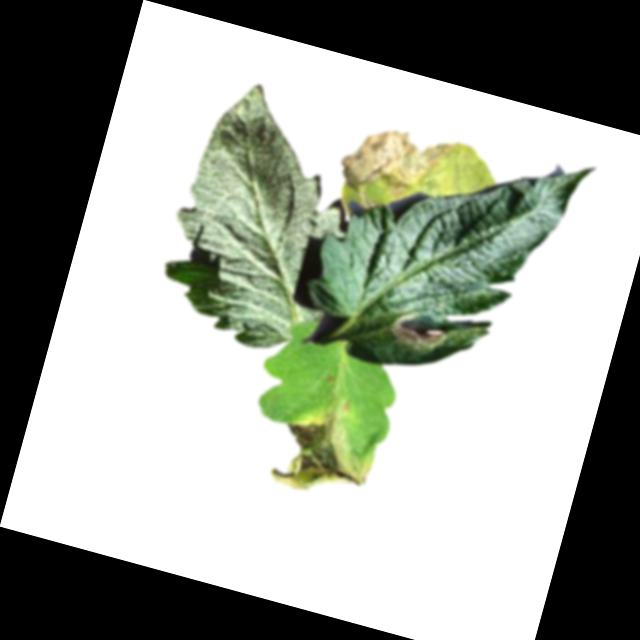Late_blight: (268, 399, 384, 508), (334, 112, 455, 210), (390, 315, 446, 351)
